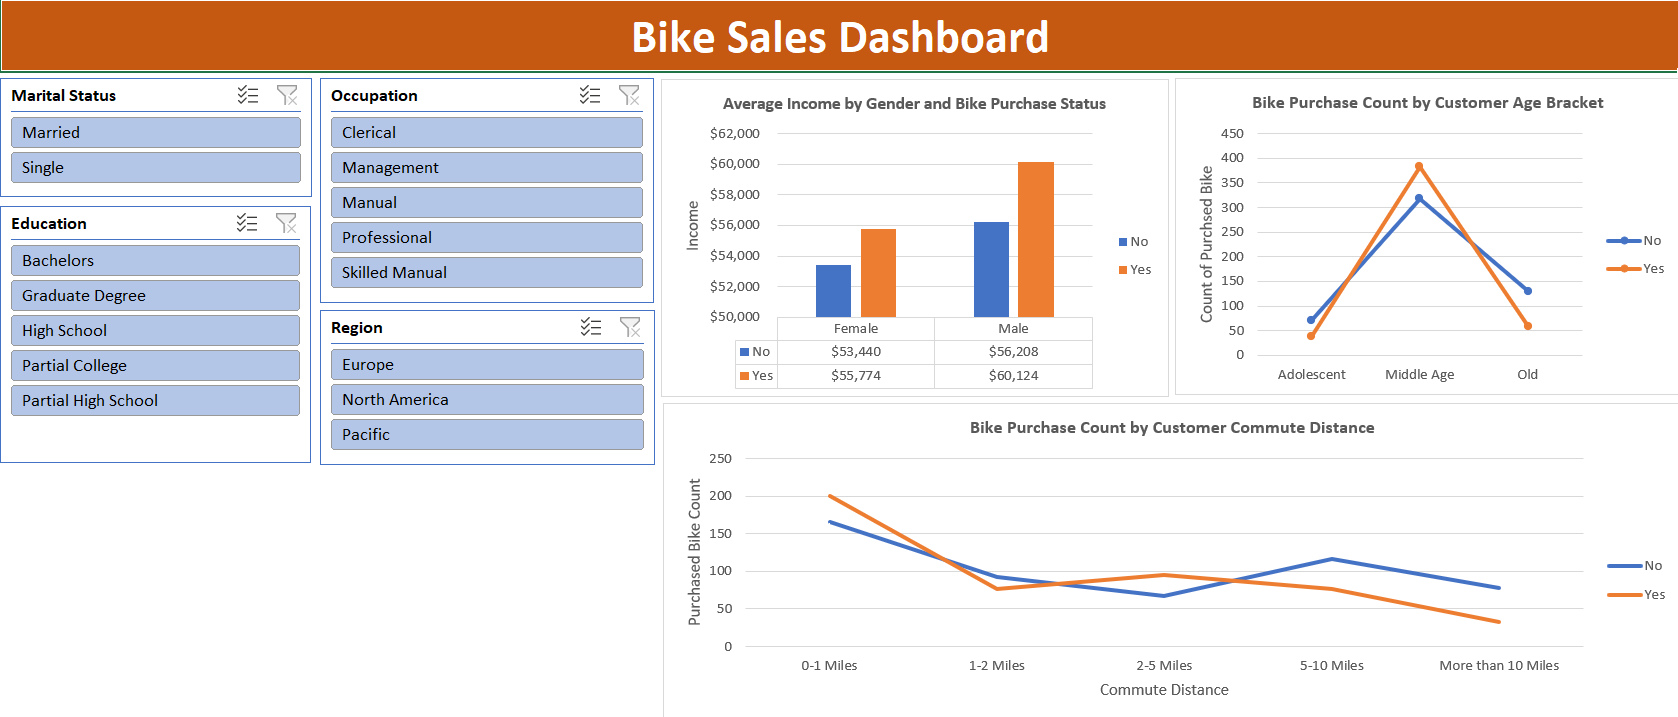

The page's visual inventory and layout, read from the dashboard file:
{"tool":"tableau","page":{"name":"Dashboard 1","canvas":[1000,1000],"units":"permille","ordinal":0},"visuals":[{"type":"worksheet","title":"Sheet 1","mark":"Automatic","box":[4.7,10,441.4,245]},{"type":"worksheet","title":"Sheet 3","mark":"Automatic","box":[446,10,441.5,564.3]},{"type":"legend","title":"Sheet 3","param":"[federated.0oyc28d18adq9l11hwic910lclzk].[sum:PercentPopulationInfected:qk]","box":[887.5,10,107.8,91.1]},{"type":"worksheet","title":"Sheet 2","mark":"Automatic","rows":["TotalDeathCount"],"cols":["location"],"box":[4.7,255,441.4,319.3]},{"type":"worksheet","title":"Sheet 4","mark":"Automatic","rows":["PercentPopulationInfected"],"cols":["date"],"box":[4.7,574.3,754.5,415.7]},{"type":"legend","title":"Sheet 4","param":"[federated.0tmufz60u0idaw1c607ro1vyunhq].[none:Location:nk]\n[federated.0tmufz60u","box":[759.2,574.3,128.3,415.7]}]}

Visuals, with their boxes on the dashboard's canvas, which has no fixed pixel size, in thousandths of its width and height (x1, y1, x2, y2). These are canvas units, not pixel positions in the 1678x717 screenshot, which may show the page scaled, cropped or inside an application window:
"Sheet 1" worksheet: l=5, t=10, r=446, b=255
"Sheet 3" worksheet: l=446, t=10, r=888, b=574
"Sheet 3" legend: l=888, t=10, r=995, b=101
"Sheet 2" worksheet: l=5, t=255, r=446, b=574
"Sheet 4" worksheet: l=5, t=574, r=759, b=990
"Sheet 4" legend: l=759, t=574, r=888, b=990
